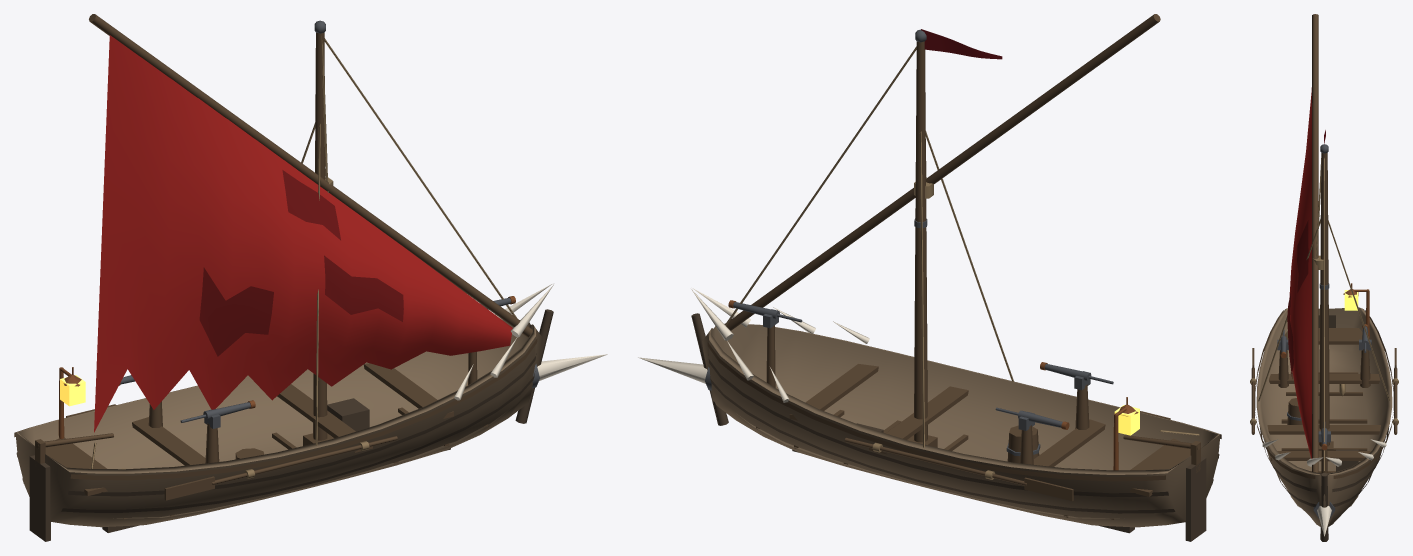
File: raider-skiff-3-swivels.glb
The picture shows the model from 3 angles, left to right: view 1: azimuth 30°, elevation 25°; view 2: azimuth 150°, elevation 25°; view 3: azimuth 270°, elevation 25°; orthographic projection. The views are drawn at different scales.
Parts seen in each view (by area): view 1: Mesh_Sail_Lateen, Mesh_Interior, Mesh_Hull, Mesh_LateenYard, Mesh_SailPatch1, Mesh_SailPatch0, Mesh_GunwaleS, Mesh_MastPole, Mesh_SailPatch2, Mesh_Strake0S, Mesh_Rudder, Mesh_Strake1S (+8 smaller); view 2: Mesh_Interior, Mesh_Hull, Mesh_LateenYard, Mesh_MastPole, Mesh_GunwaleP, Mesh_Strake0P, Mesh_Rudder, Mesh_Strake1P, Mesh_Thwart1, Mesh_Thwart2, Mesh_Thwart0, Mesh_SternSeat (+6 smaller); view 3: Mesh_Interior, Mesh_Sail_Lateen, Mesh_LateenYard, Mesh_Hull, Mesh_MastPole, Mesh_Thwart1, Mesh_Thwart2, Mesh_Thwart0, Mesh_Forestay, Mesh_SternSeat, Mesh_SailPatch2, Mesh_ShroudP (+15 smaller).
Boxes of the visible parts, <box> form: Mesh_Sail_Lateen: <box>94,35,512,432</box>; Mesh_Interior: <box>15,320,535,518</box>; Mesh_Hull: <box>15,329,542,527</box>; Mesh_LateenYard: <box>89,14,536,337</box>; Mesh_SailPatch1: <box>199,267,273,356</box>; Mesh_SailPatch0: <box>324,255,403,321</box>; Mesh_GunwaleS: <box>70,338,537,480</box>; Mesh_MastPole: <box>313,32,327,440</box>; Mesh_SailPatch2: <box>282,170,340,240</box>; Mesh_Strake0S: <box>68,353,536,496</box>; Mesh_Rudder: <box>29,455,50,541</box>; Mesh_Strake1S: <box>61,371,535,512</box>; Mesh_Interior: <box>708,323,1219,518</box>; Mesh_Hull: <box>702,333,1220,527</box>; Mesh_LateenYard: <box>724,14,1160,330</box>; Mesh_MastPole: <box>914,41,927,442</box>; Mesh_GunwaleP: <box>707,335,1165,481</box>; Mesh_Strake0P: <box>708,354,1168,496</box>; Mesh_Rudder: <box>1185,456,1206,541</box>; Mesh_Strake1P: <box>710,376,1175,513</box>; Mesh_Thwart1: <box>869,386,968,454</box>; Mesh_Thwart2: <box>789,364,878,420</box>; Mesh_Thwart0: <box>1023,419,1105,480</box>; Mesh_SternSeat: <box>1129,438,1190,496</box>; Mesh_Interior: <box>1256,307,1392,509</box>; Mesh_Sail_Lateen: <box>1289,87,1311,458</box>; Mesh_LateenYard: <box>1312,14,1318,472</box>; Mesh_Hull: <box>1260,429,1388,526</box>; Mesh_MastPole: <box>1319,153,1329,446</box>; Mesh_Thwart1: <box>1261,425,1387,434</box>; Mesh_Thwart2: <box>1270,451,1378,460</box>; Mesh_Thwart0: <box>1269,374,1380,383</box>; Mesh_Forestay: <box>1323,158,1324,470</box>; Mesh_SternSeat: <box>1284,328,1362,344</box>; Mesh_SailPatch2: <box>1297,220,1308,292</box>; Mesh_ShroudP: <box>1328,220,1390,400</box>.
Bounding box in the file's own units: 10.5 × 9.23 × 3.28.
